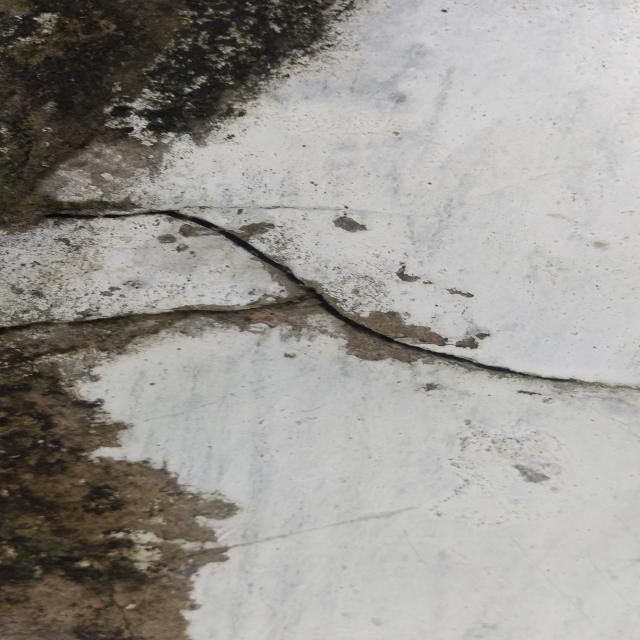Crack: (20, 205, 640, 393)
